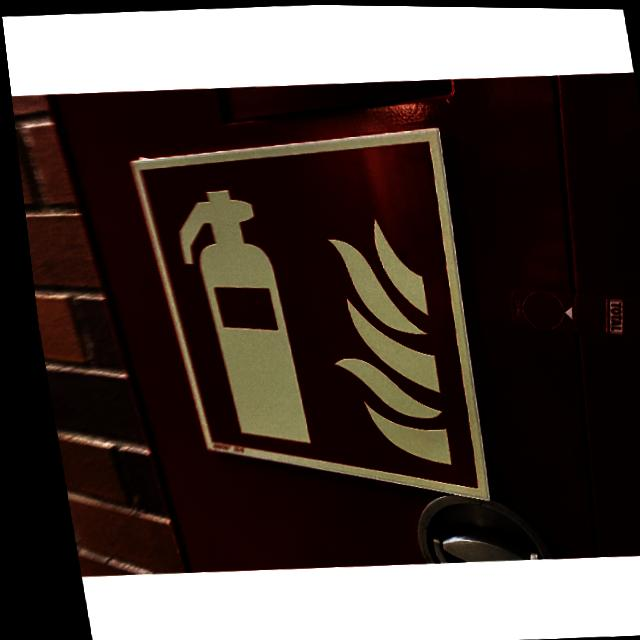fire extinguisher: (120, 123, 492, 514)
